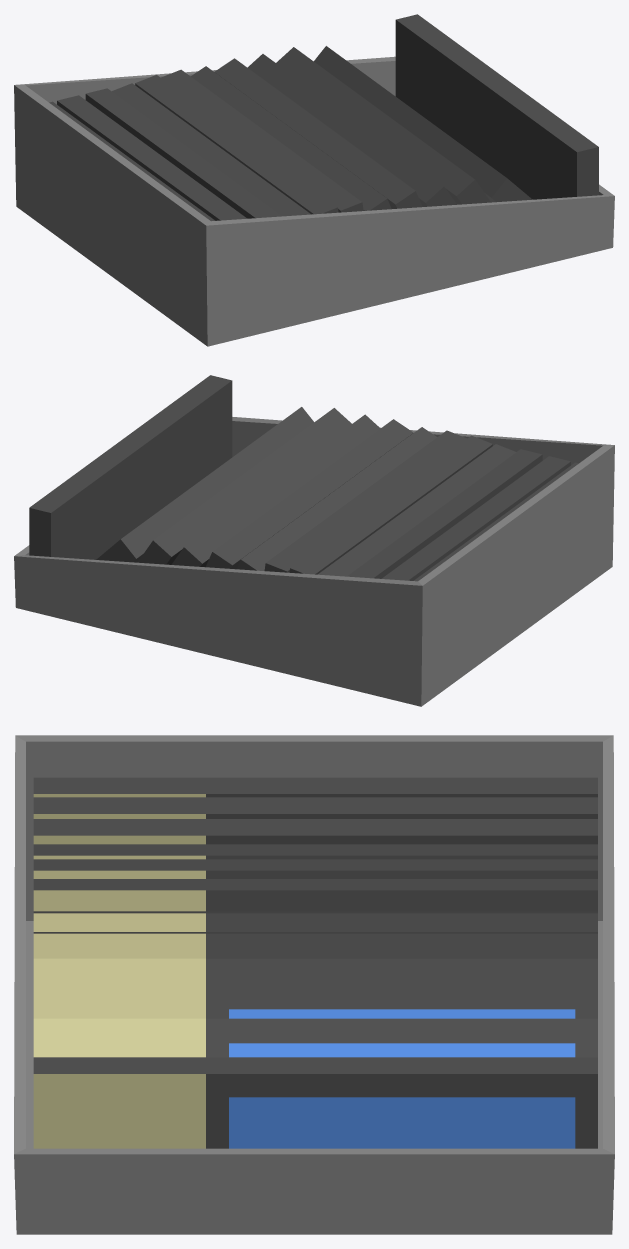
The model's file is BoxMedium.fbx.
3 views of the same model, one above another, from view 1: azimuth 30°, elevation 25°; view 2: azimuth 150°, elevation 25°; view 3: azimuth 270°, elevation 25° (orthographic). The views are drawn at different scales.
Parts seen in each view (by area): view 1: Box_mittel; view 2: Box_mittel; view 3: Box_mittel.
Part boxes in pixels (bbox=[...]): Box_mittel: bbox=[14, 14, 614, 346]; Box_mittel: bbox=[14, 375, 614, 706]; Box_mittel: bbox=[14, 735, 614, 1234].
Size of the model in its own units: 142 by 40.5 by 116.
